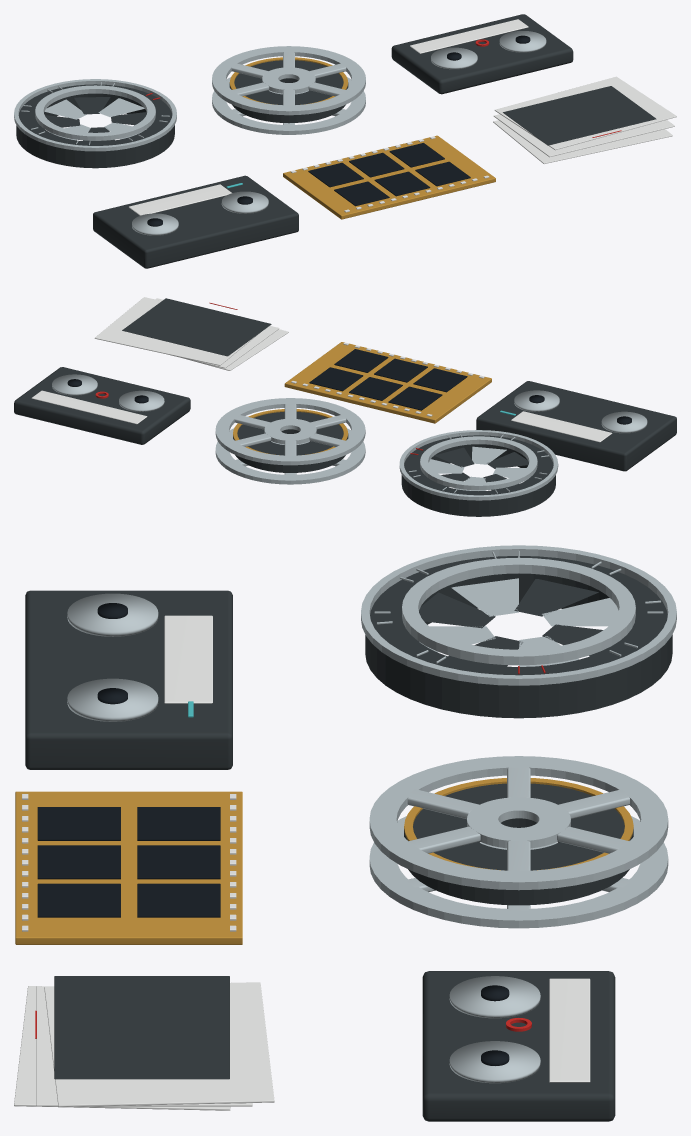
Rendered from analog-craft.glb.
The picture shows the model from 3 angles, top to bottom: view 1: azimuth 30°, elevation 25°; view 2: azimuth 150°, elevation 25°; view 3: azimuth 270°, elevation 25°; orthographic projection. The views are drawn at different scales.
Parts seen in each view (by area): view 1: Video cassette shell, Cassette shell, Aperture housing, Negative border, Print mount, Reel flange.001, Wound film, Inner lens ring, Print sheet 2, Optical silver rim, Reel flange, Print sheet 1 (+18 smaller); view 2: Video cassette shell, Cassette shell, Aperture housing, Negative border, Print mount, Reel flange.001, Wound film, Print sheet 2, Inner lens ring, Optical silver rim, Reel flange, Cassette label (+19 smaller); view 3: Video cassette shell, Aperture housing, Cassette shell, Print mount, Negative border, Reel flange.001, Print sheet 2, Wound film, Inner lens ring, Optical silver rim, Reel flange, Cassette label (+24 smaller).
Boxes of the visible parts, <box> form: Video cassette shell: <box>93,175,298,268</box>; Cassette shell: <box>391,14,573,94</box>; Aperture housing: <box>16,84,174,168</box>; Negative border: <box>283,135,495,219</box>; Print mount: <box>503,86,656,145</box>; Reel flange.001: <box>212,46,365,115</box>; Wound film: <box>229,60,348,123</box>; Inner lens ring: <box>35,85,155,140</box>; Print sheet 2: <box>494,76,676,150</box>; Optical silver rim: <box>14,79,176,151</box>; Reel flange: <box>212,77,365,134</box>; Print sheet 1: <box>493,114,674,157</box>; Video cassette shell: <box>476,381,676,471</box>; Cassette shell: <box>14,367,190,444</box>; Aperture housing: <box>401,435,555,516</box>; Negative border: <box>284,342,491,423</box>; Print mount: <box>122,298,271,356</box>; Reel flange.001: <box>215,398,365,465</box>; Wound film: <box>233,412,348,472</box>; Print sheet 2: <box>94,297,259,365</box>; Inner lens ring: <box>420,436,537,490</box>; Optical silver rim: <box>399,430,558,500</box>; Reel flange: <box>215,428,365,484</box>; Cassette label: <box>31,390,147,424</box>; Video cassette shell: <box>25,590,232,769</box>; Aperture housing: <box>365,556,672,718</box>; Cassette shell: <box>422,971,615,1121</box>; Print mount: <box>54,976,229,1079</box>; Negative border: <box>15,791,242,944</box>; Reel flange.001: <box>369,756,668,890</box>; Print sheet 2: <box>44,982,274,1106</box>; Wound film: <box>404,783,633,905</box>; Inner lens ring: <box>402,557,635,665</box>; Optical silver rim: <box>361,545,676,685</box>; Reel flange: <box>369,816,668,928</box>; Cassette label: <box>549,978,590,1082</box>.
Bounding box in the file's own units: 1.12 × 0.0935 × 0.6123.
